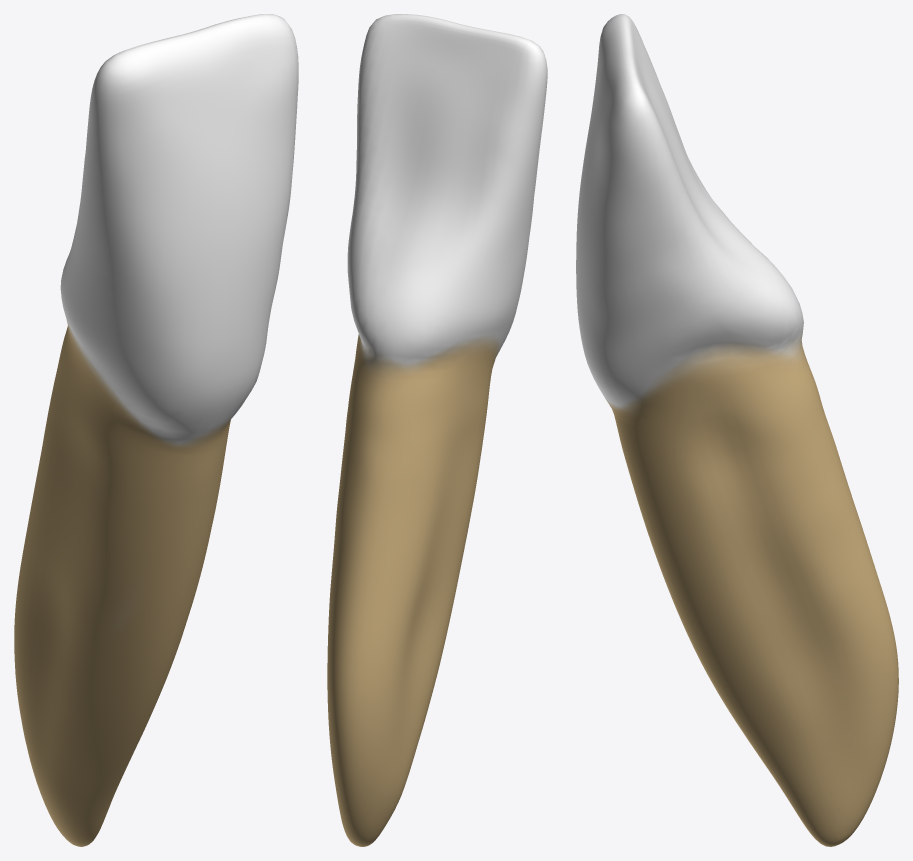
3 views of the same model, side by side, from view 1: azimuth 30°, elevation 25°; view 2: azimuth 150°, elevation 25°; view 3: azimuth 270°, elevation 25° (orthographic). The views are drawn at different scales.
Visible parts, largest first — view 1: outer; view 2: outer; view 3: outer.
Part boxes in pixels (x1,y1,x2,y2): outer: (14, 14, 298, 846); outer: (327, 14, 547, 846); outer: (576, 14, 898, 846).
Bounding box in the file's own units: 2.02 × 8.34 × 3.05.
Materials: 3 (1 with a texture image).
